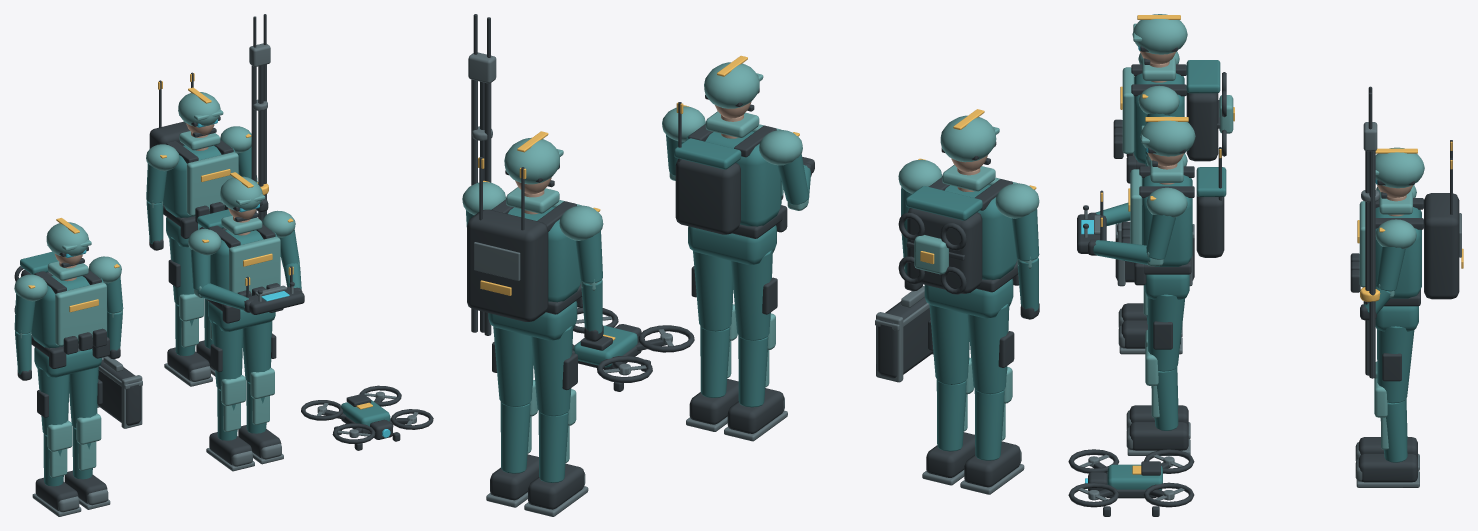
File: meridian-fpv-operators.glb
3 views of the same model, side by side, from view 1: azimuth 30°, elevation 25°; view 2: azimuth 150°, elevation 25°; view 3: azimuth 270°, elevation 25° (orthographic). The views are drawn at different scales.
Visible parts, largest first — view 1: Operator2_BodyMesh, Operator3_BodyMesh, Operator1_BodyMesh, Operator2_ArmsMesh, Operator3_ArmsMesh, Operator2_LegLeftMesh, Operator1_LegLeftMesh, Operator2_LegRightMesh, Operator1_LegRightMesh, FPVDroneMesh, Operator3_LegLeftMesh, Operator1_ArmsMesh (+1 smaller); view 2: Operator3_BodyMesh, Operator2_BodyMesh, Operator1_BodyMesh, Operator1_LegLeftMesh, Operator2_LegLeftMesh, Operator3_LegLeftMesh, Operator2_ArmsMesh, Operator1_LegRightMesh, Operator2_LegRightMesh, Operator3_LegRightMesh, Operator3_ArmsMesh, FPVDroneMesh (+1 smaller); view 3: Operator3_BodyMesh, Operator1_BodyMesh, Operator2_BodyMesh, Operator3_LegRightMesh, Operator1_LegRightMesh, FPVDroneMesh, Operator3_ArmsMesh, Operator1_ArmsMesh, Operator2_LegRightMesh, Operator2_ArmsMesh, Operator1_LegLeftMesh, Operator3_LegLeftMesh (+1 smaller).
Boxes of the visible parts, x1,y1,x2,y2 form: Operator2_BodyMesh: (14,218,121,377); Operator3_BodyMesh: (146,72,251,247); Operator1_BodyMesh: (188,172,295,331); Operator2_ArmsMesh: (14,276,142,428); Operator3_ArmsMesh: (146,14,270,250); Operator2_LegLeftMesh: (32,366,81,516); Operator1_LegLeftMesh: (206,321,254,471); Operator2_LegRightMesh: (64,366,110,509); Operator1_LegRightMesh: (238,321,283,464); FPVDroneMesh: (301,385,433,450); Operator3_LegLeftMesh: (164,236,212,386); Operator1_ArmsMesh: (190,230,304,314); Operator3_BodyMesh: (462,131,603,340); Operator2_BodyMesh: (898,109,1039,318); Operator1_BodyMesh: (662,55,802,264); Operator1_LegLeftMesh: (724,250,787,441); Operator2_LegLeftMesh: (960,303,1024,494); Operator3_LegLeftMesh: (524,326,588,516); Operator2_ArmsMesh: (875,187,1039,382); Operator1_LegRightMesh: (686,251,738,431); Operator2_LegRightMesh: (922,304,975,485); Operator3_LegRightMesh: (486,326,538,507); Operator3_ArmsMesh: (465,14,603,341); FPVDroneMesh: (572,307,694,391); Operator3_BodyMesh: (1350,140,1463,331); Operator1_BodyMesh: (1121,116,1226,299); Operator2_BodyMesh: (1113,14,1234,183); Operator3_LegRightMesh: (1355,326,1419,487); Operator1_LegRightMesh: (1126,294,1190,455); FPVDroneMesh: (1068,449,1194,516); Operator3_ArmsMesh: (1360,86,1405,378); Operator1_ArmsMesh: (1077,190,1175,266); Operator2_LegRightMesh: (1118,285,1182,354); Operator2_ArmsMesh: (1115,113,1194,286); Operator1_LegLeftMesh: (1126,330,1190,438); Operator3_LegLeftMesh: (1355,361,1419,470).
Bounding box in the file's own units: 2.67 × 2.3 × 2.
